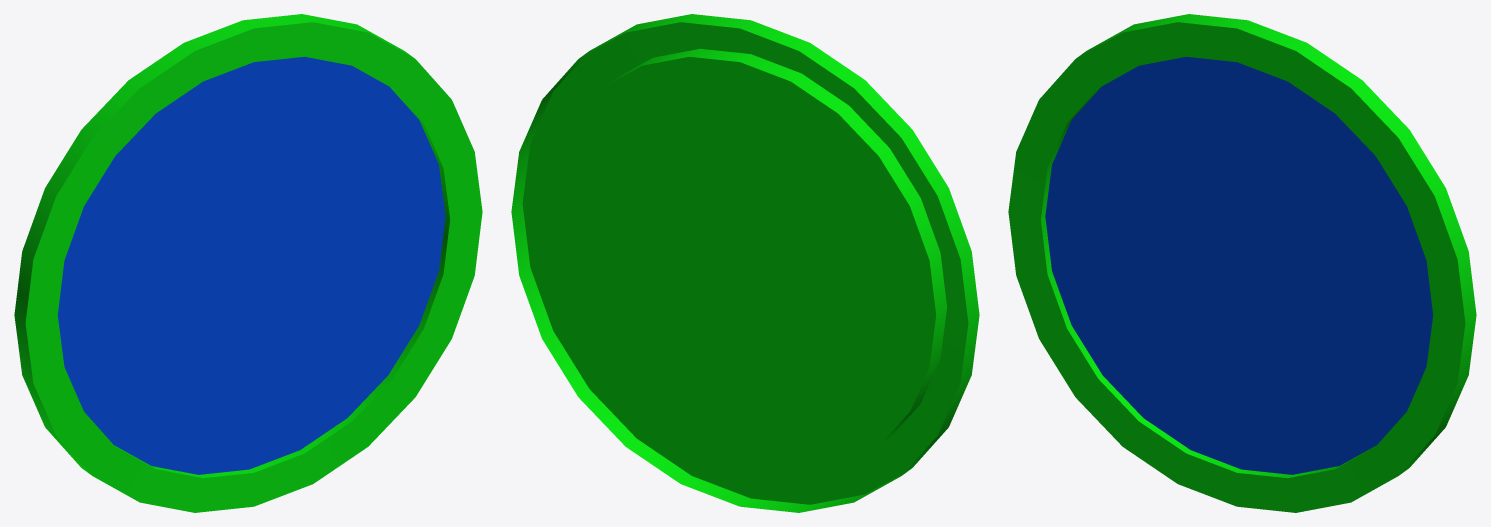
The model's file is ClockFull.fbx.
The picture shows the model from 3 angles, left to right: view 1: azimuth 30°, elevation 25°; view 2: azimuth 150°, elevation 25°; view 3: azimuth 330°, elevation 25°; orthographic projection.
Parts seen in each view (by area): view 1: Clock_Low; view 2: Clock_Low; view 3: Clock_Low.
Boxes of the visible parts, x1,y1,x2,y2 form: Clock_Low: [14, 14, 482, 512]; Clock_Low: [511, 14, 979, 512]; Clock_Low: [1008, 14, 1476, 512].
Bounding box in the file's own units: 37.5 × 37.5 × 1.58.
